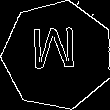M_S: (33, 29, 82, 81)
